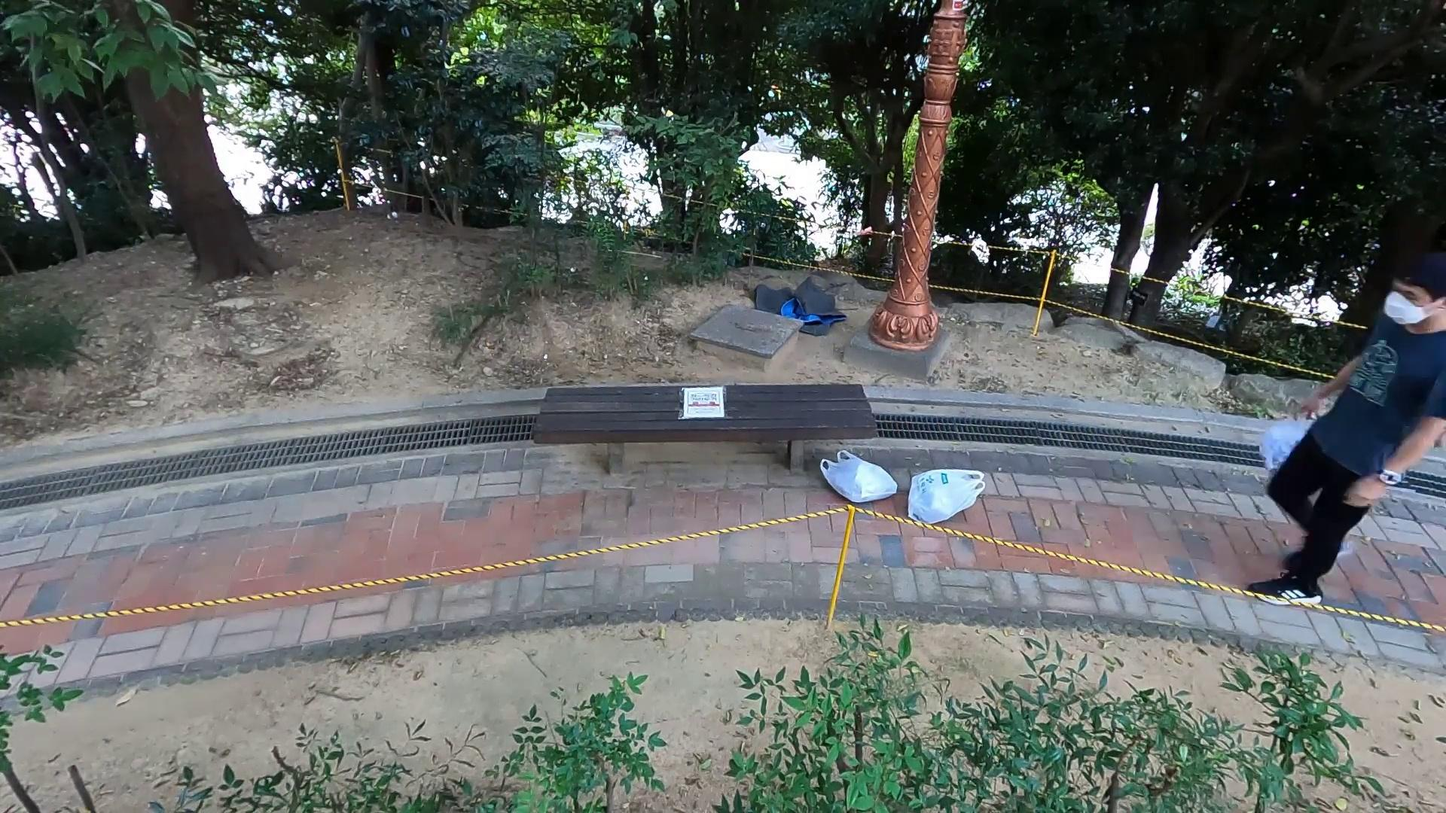person: (1235, 242, 1446, 616)
trash: (809, 437, 899, 517), (1258, 402, 1341, 486), (902, 462, 987, 534)
